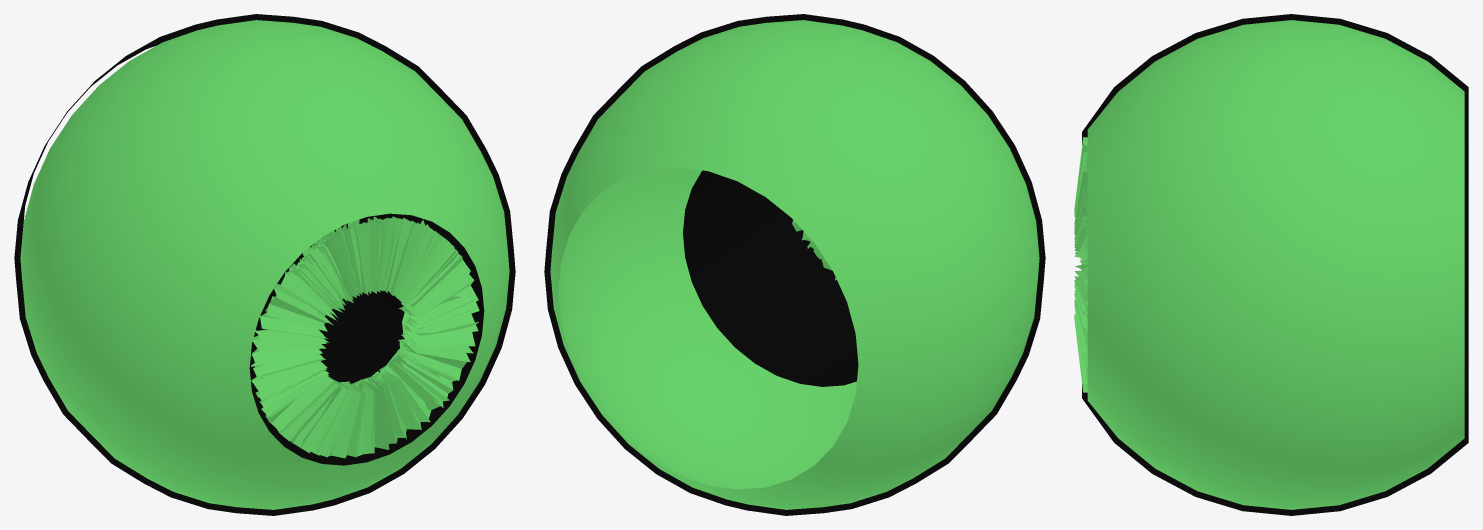
Rendered from eye_02.glb.
The picture shows the model from 3 angles, left to right: view 1: azimuth 30°, elevation 25°; view 2: azimuth 150°, elevation 25°; view 3: azimuth 270°, elevation 25°; orthographic projection.
Visible parts, largest first — view 1: eye.001, eye_outline; view 2: eye.001, eye_outline; view 3: eye.001, eye_outline.
Boxes of the visible parts, left/top/right/bottom form: eye.001: left=20, top=20, right=509, bottom=509; eye_outline: left=14, top=14, right=515, bottom=515; eye.001: left=550, top=20, right=1039, bottom=509; eye_outline: left=544, top=14, right=1045, bottom=515; eye.001: left=1074, top=20, right=1464, bottom=509; eye_outline: left=1082, top=14, right=1468, bottom=515.
Size of the model in its own units: 1.17 by 1.17 by 0.9149.
